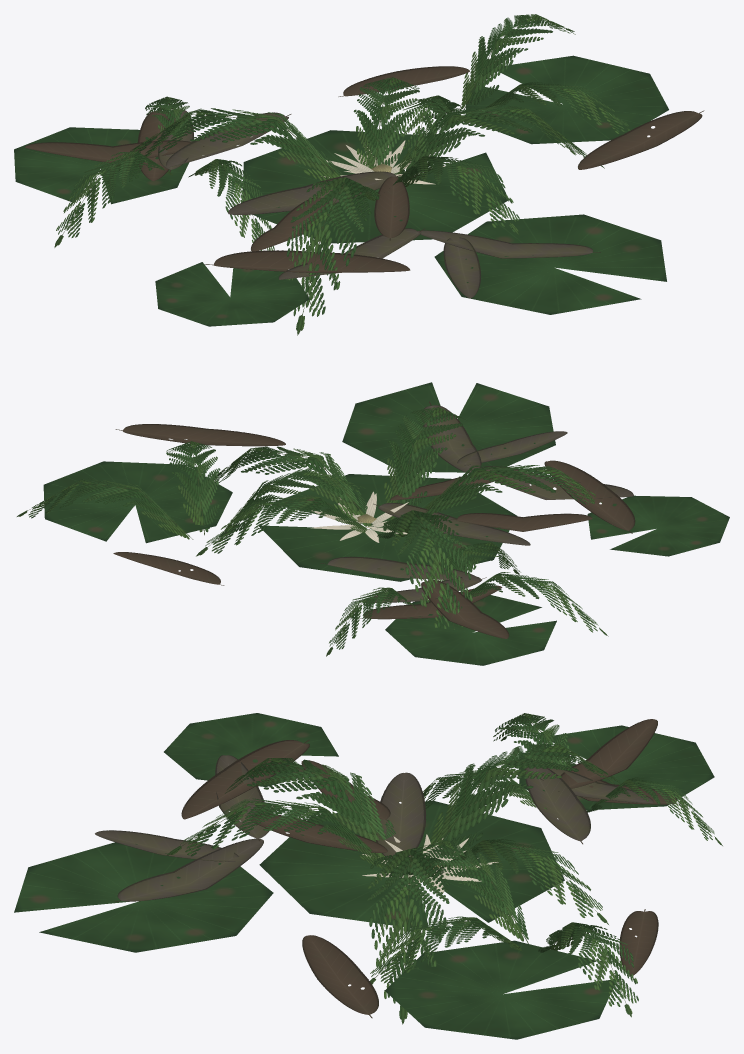
The model's file is groundcover_cuyabeno_LOD1.glb.
The picture shows the model from 3 angles, top to bottom: view 1: azimuth 30°, elevation 25°; view 2: azimuth 150°, elevation 25°; view 3: azimuth 270°, elevation 25°; orthographic projection. The views are drawn at different scales.
Visible parts, largest first — view 1: GC_WaterLily_LOD1, GC_Fern_LOD1, GC_CacaoLeaves_LOD1; view 2: GC_WaterLily_LOD1, GC_Fern_LOD1, GC_CacaoLeaves_LOD1; view 3: GC_WaterLily_LOD1, GC_Fern_LOD1, GC_CacaoLeaves_LOD1.
Boxes of the visible parts, <box> form: GC_WaterLily_LOD1: <box>14,55,668,326</box>; GC_Fern_LOD1: <box>54,14,630,335</box>; GC_CacaoLeaves_LOD1: <box>25,66,704,298</box>; GC_WaterLily_LOD1: <box>43,382,729,665</box>; GC_Fern_LOD1: <box>17,407,608,656</box>; GC_CacaoLeaves_LOD1: <box>113,401,635,638</box>; GC_WaterLily_LOD1: <box>14,713,714,1039</box>; GC_Fern_LOD1: <box>166,713,722,1024</box>; GC_CacaoLeaves_LOD1: <box>95,719,680,1018</box>.
Bounding box in the file's own units: 1.05 × 0.1909 × 0.9707.
1 material, 1 textured.
